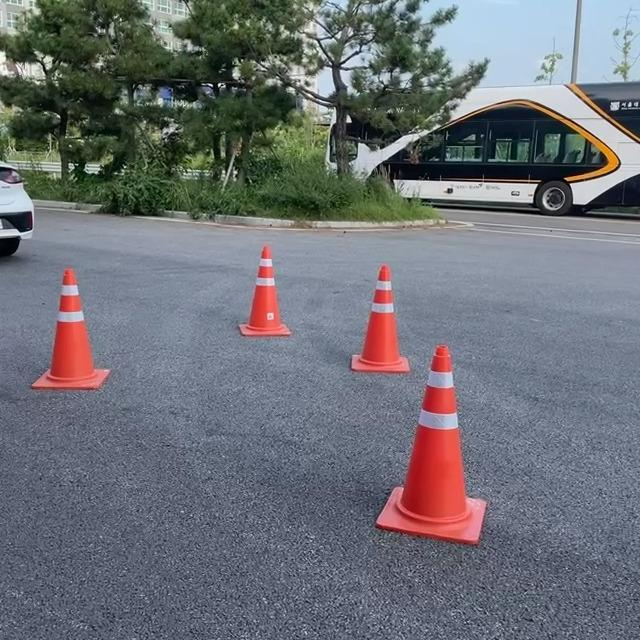fallen_object: (383, 325, 492, 592), (3, 250, 118, 385), (336, 260, 412, 403), (226, 219, 289, 331)
